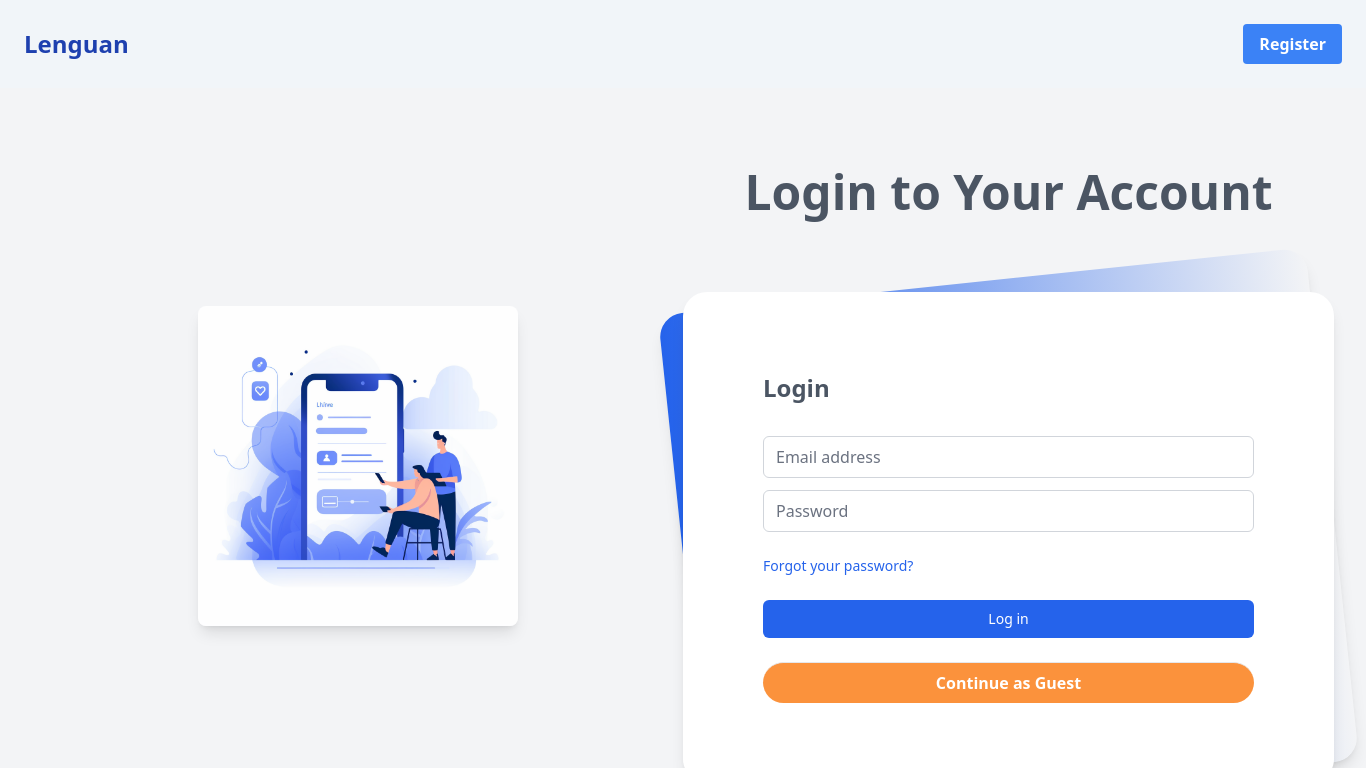
Test: LoginPage › should display an error message for invalid login
The width and height of the screenshot is (1366, 768).
Type "test@example.com" into the field labelled "Email address" at (1008, 457), box x1=763 y1=436 x2=1254 y2=478
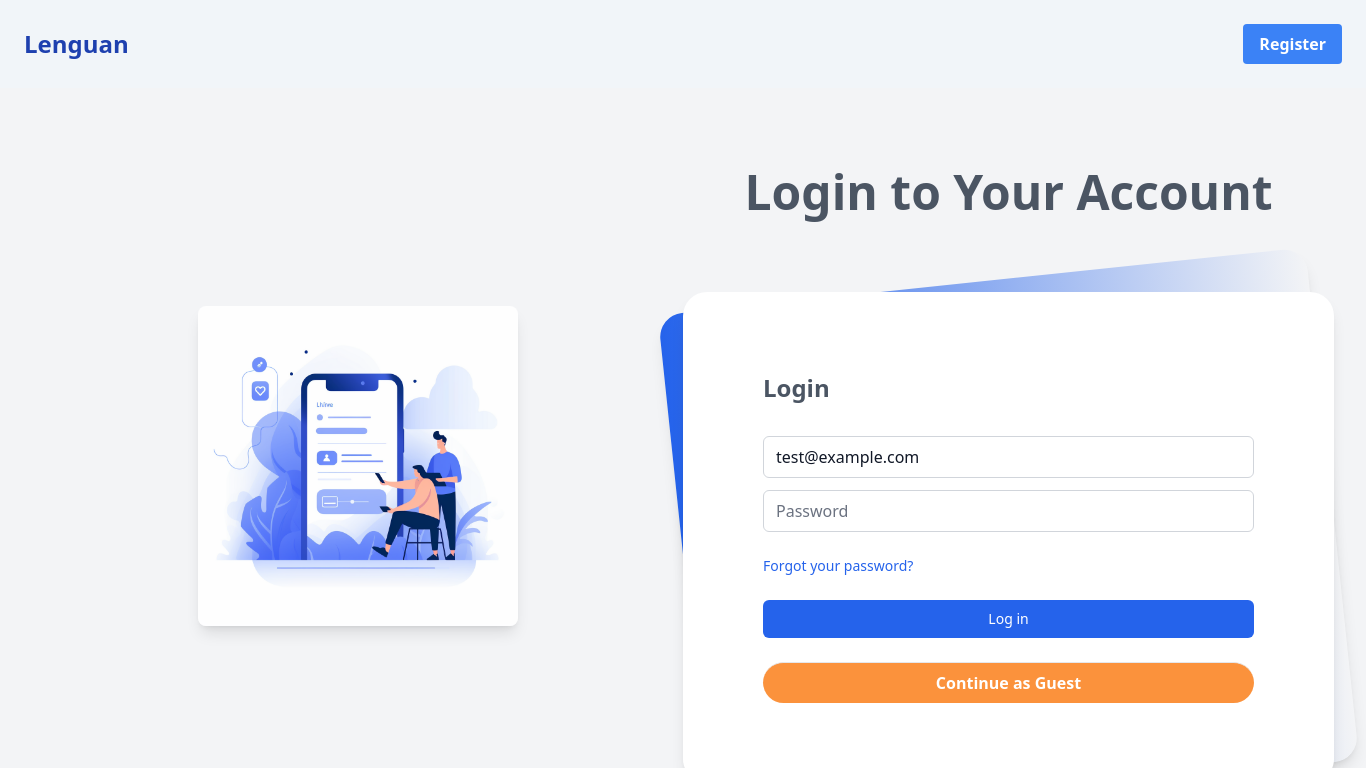
Type "wrongpassword" into the password field labelled "Password" at (1008, 511), box x1=763 y1=490 x2=1254 y2=532
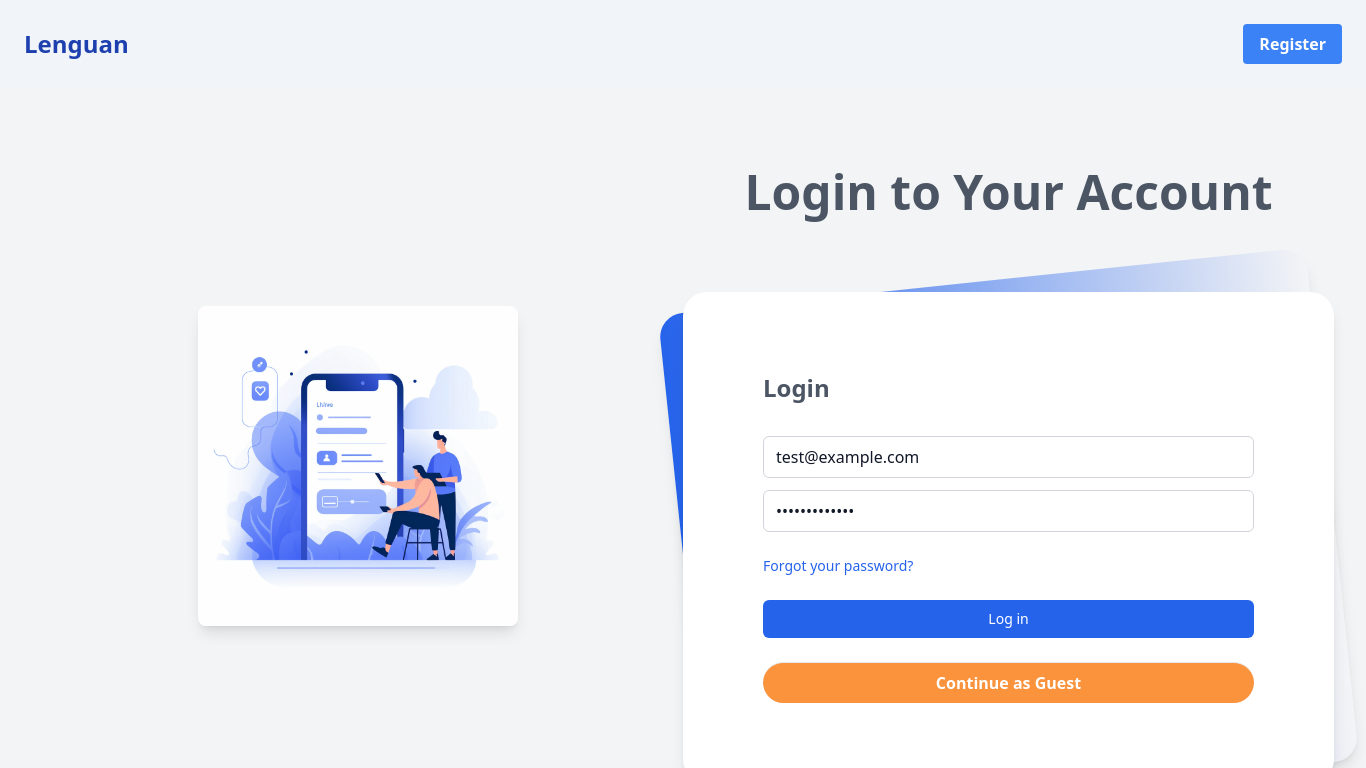
Click the button "Log in" at (1008, 619), box x1=763 y1=600 x2=1254 y2=638
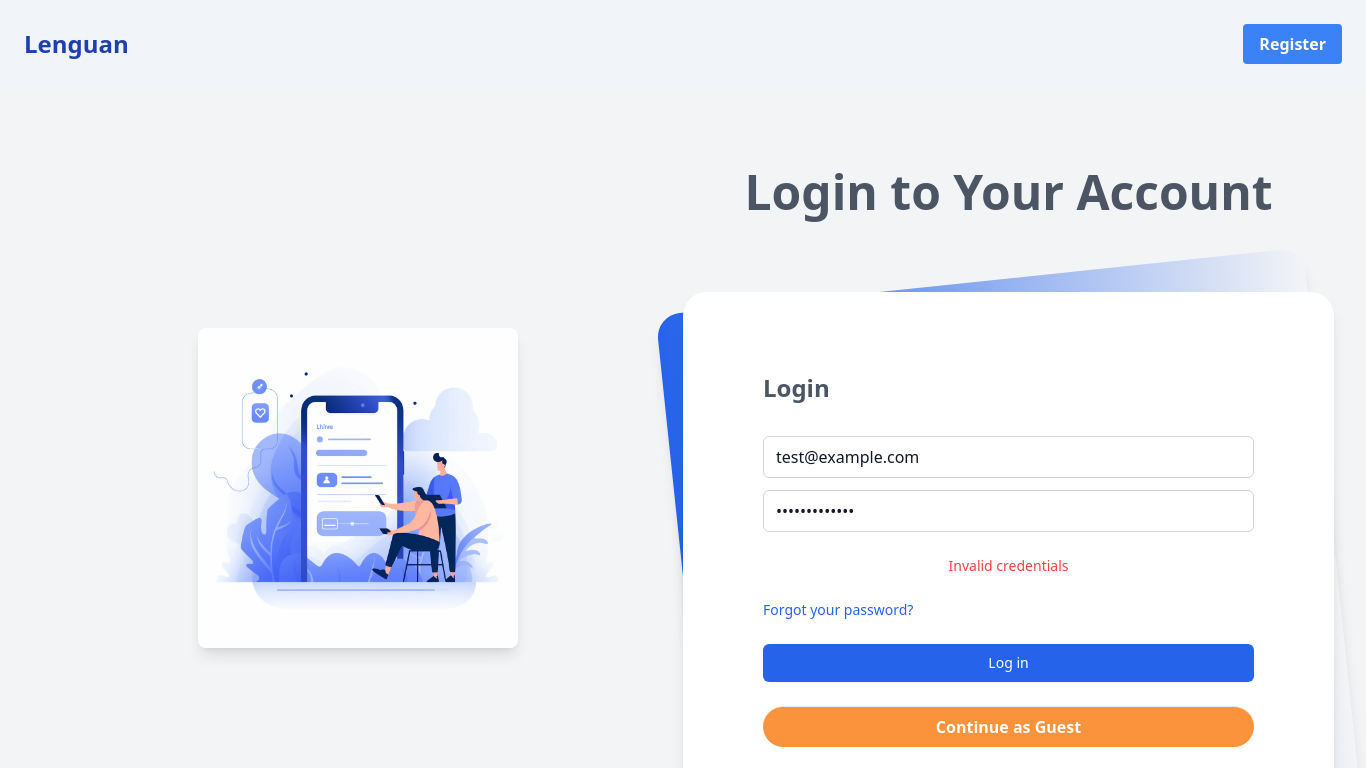
Check: the text "Invalid credentials" is shown, box x1=948 y1=556 x2=1068 y2=575
